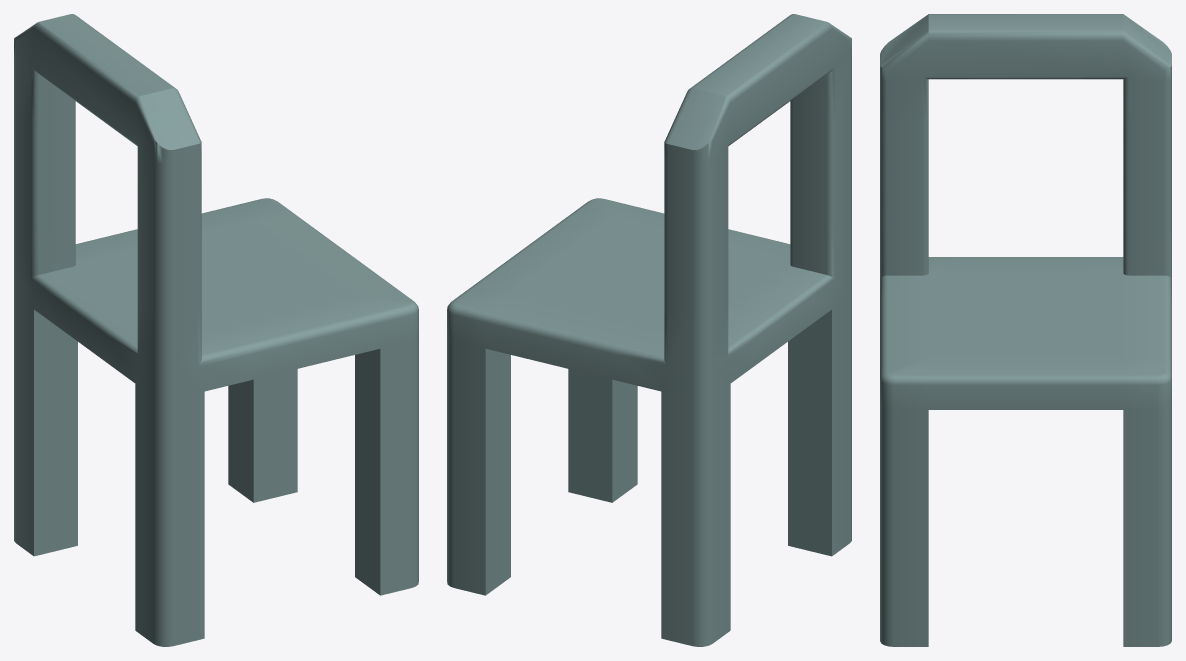
The model's file is chair_small.glb.
The picture shows the model from 3 angles, left to right: view 1: azimuth 30°, elevation 25°; view 2: azimuth 150°, elevation 25°; view 3: azimuth 270°, elevation 25°; orthographic projection. The views are drawn at different scales.
Visible parts, largest first — view 1: Cube; view 2: Cube; view 3: Cube.
Part boxes in pixels (x1,y1,x2,y2): Cube: (14,14,418,646); Cube: (447,14,851,646); Cube: (880,14,1171,646).
Size of the model in its own units: 0.4308 by 0.8334 by 0.4308.
